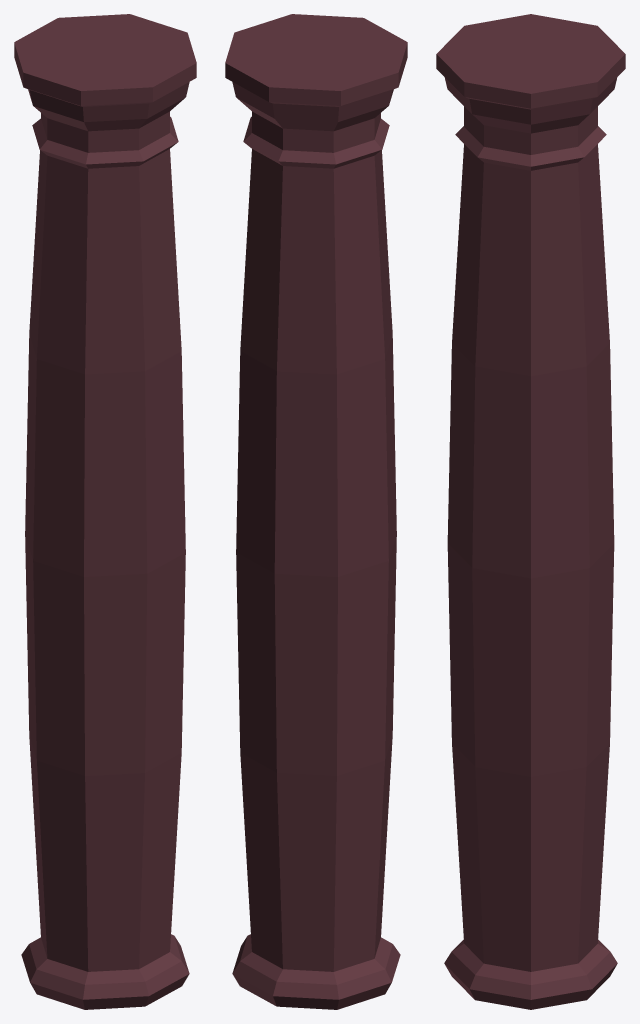
Rendered from empire-pillar-tuscan-big-empire.glb.
3 renders of one model, left to right at view 1: azimuth 30°, elevation 25°; view 2: azimuth 150°, elevation 25°; view 3: azimuth 270°, elevation 25°, orthographic.
Parts seen in each view (by area): view 1: SM_Pillar_Tuscan_Big_Empire; view 2: SM_Pillar_Tuscan_Big_Empire; view 3: SM_Pillar_Tuscan_Big_Empire.
Part boxes in pixels (x1,y1,x2,y2): SM_Pillar_Tuscan_Big_Empire: (14, 14, 196, 1009); SM_Pillar_Tuscan_Big_Empire: (225, 14, 407, 1009); SM_Pillar_Tuscan_Big_Empire: (436, 14, 625, 1009).
Size of the model in its own units: 1.86 by 10 by 1.86.
